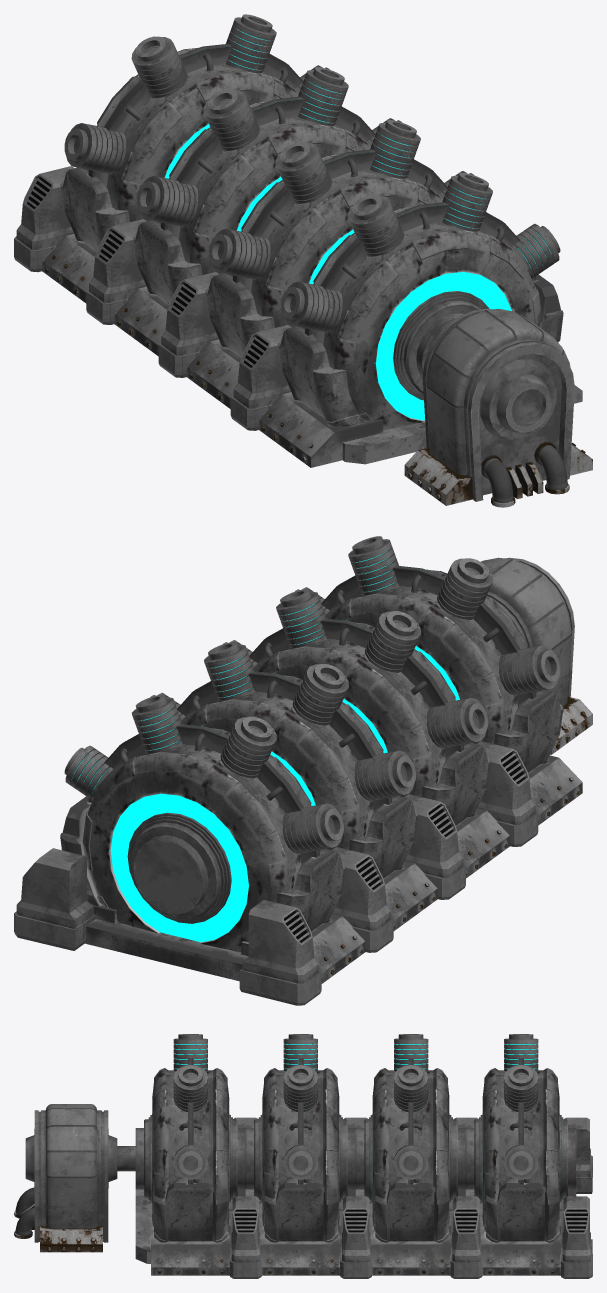
File: Generator.fbx
The picture shows the model from 3 angles, top to bottom: view 1: azimuth 30°, elevation 25°; view 2: azimuth 150°, elevation 25°; view 3: azimuth 270°, elevation 25°; orthographic projection. The views are drawn at different scales.
Visible parts, largest first — view 1: Generators, Transformer, Vent.001, GeneratorShields; view 2: Generators, Vent.001, GeneratorShields, Transformer; view 3: Generators, GeneratorShields, Transformer, Vent.001.
Part boxes in pixels (bbox=[...]): Generators: bbox=[42, 14, 582, 467]; Transformer: bbox=[404, 308, 592, 507]; Vent.001: bbox=[14, 166, 291, 430]; GeneratorShields: bbox=[60, 167, 563, 426]; Generators: bbox=[64, 536, 582, 983]; Vent.001: bbox=[14, 741, 538, 1005]; GeneratorShields: bbox=[60, 690, 563, 931]; Transformer: bbox=[480, 557, 592, 754]; Generators: bbox=[135, 1034, 576, 1275]; GeneratorShields: bbox=[154, 1183, 559, 1242]; Transformer: bbox=[14, 1104, 135, 1252]; Vent.001: bbox=[229, 1117, 592, 1278].
Size of the model in its own units: 806 by 617 by 1817.
